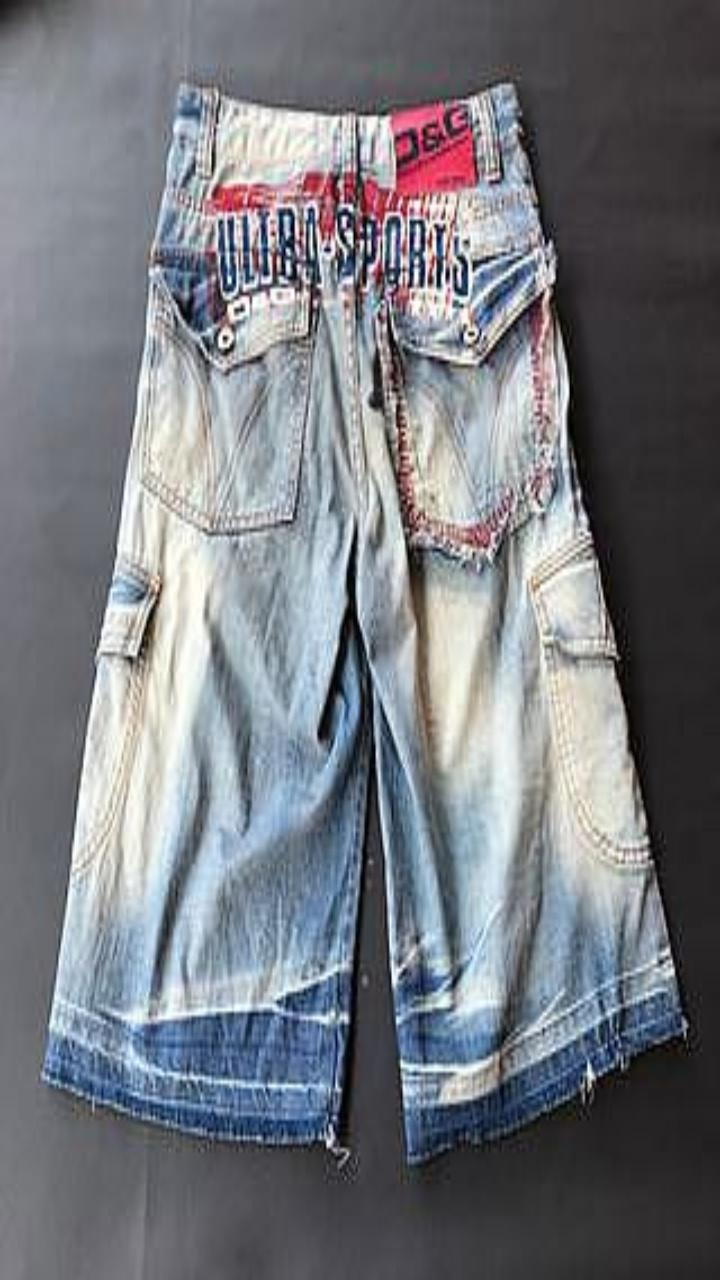Shorts: (42, 81, 686, 1163)
